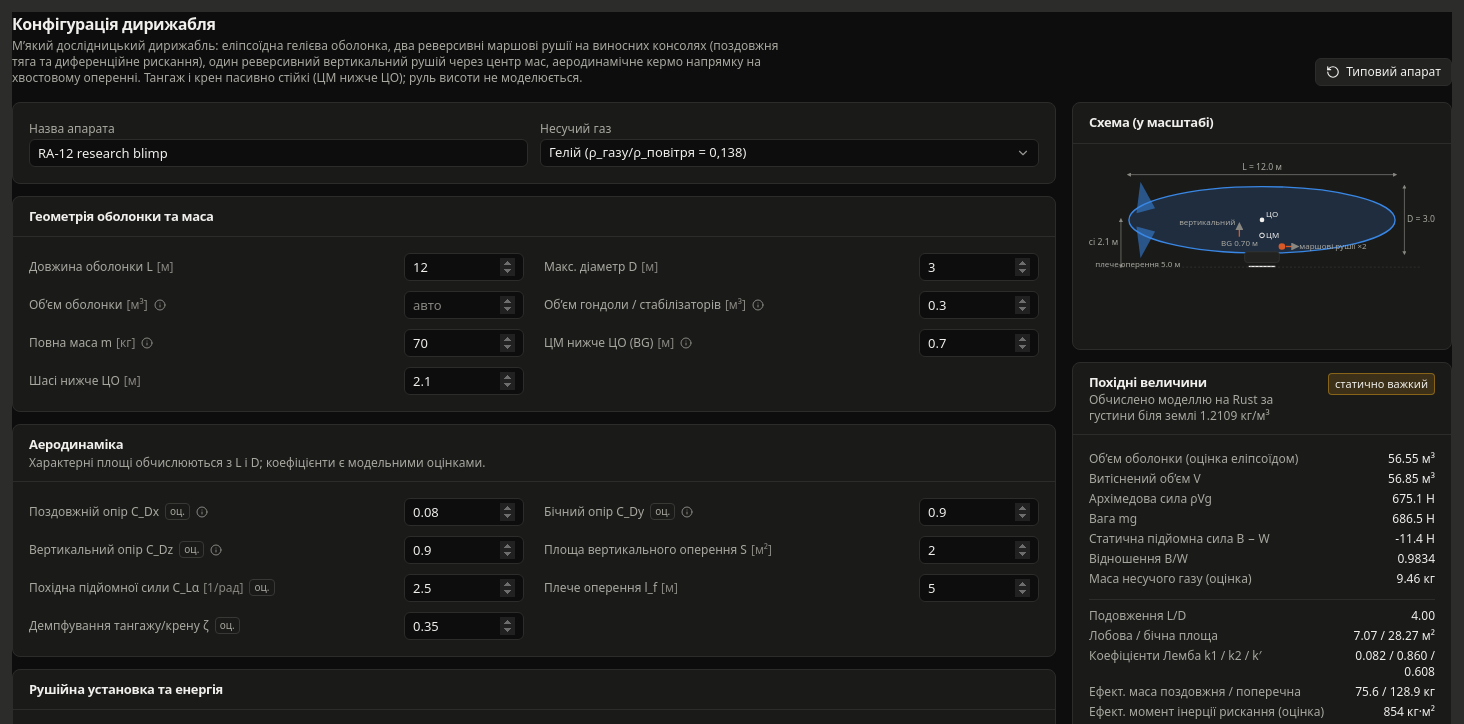
Scenario: airship configuration › rejects an inconsistent value with a field message and keeps the store unchanged
Replace the text in the number field labelled "Довжина оболонки L[м]" with "2" at point(464, 267), box [404,253,524,281]
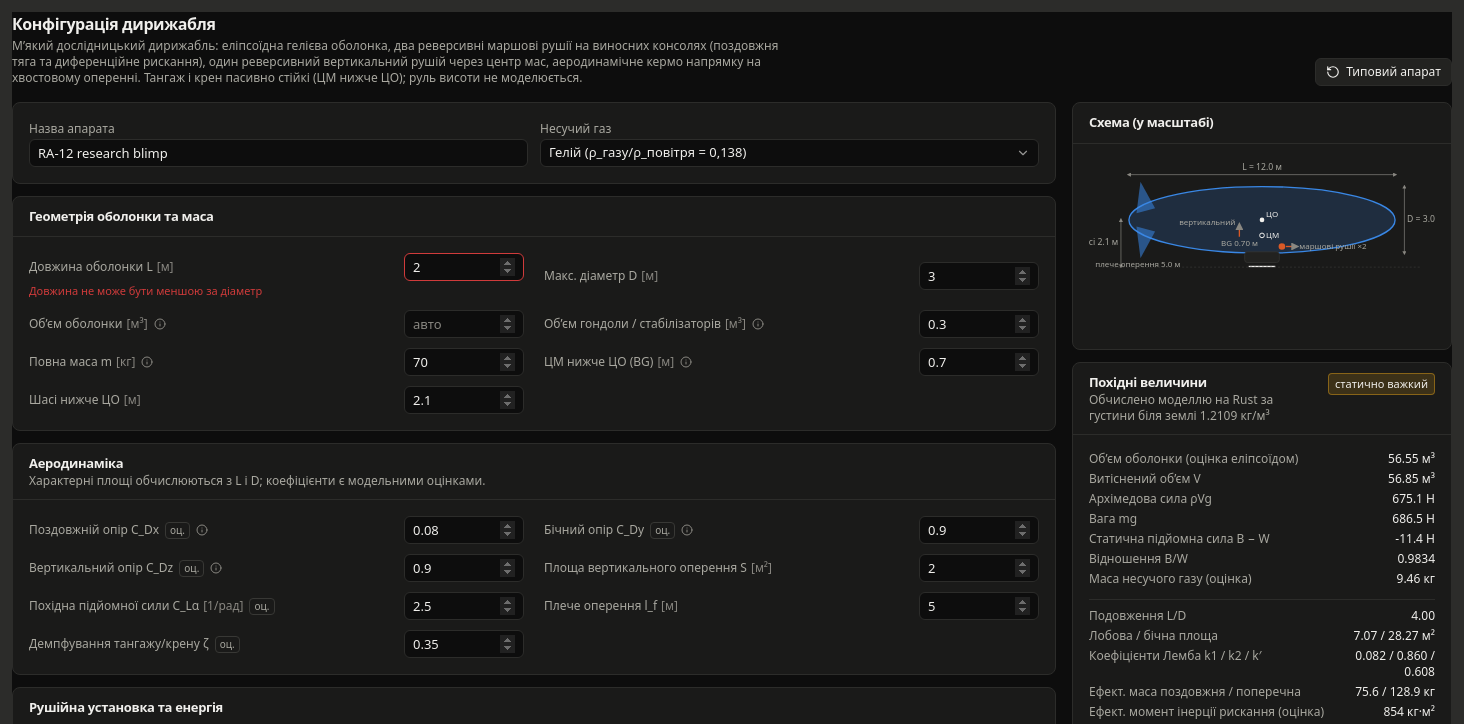
Now the text "Довжина не може бути меншою за діаметр" is shown, box [29,283,262,298]
